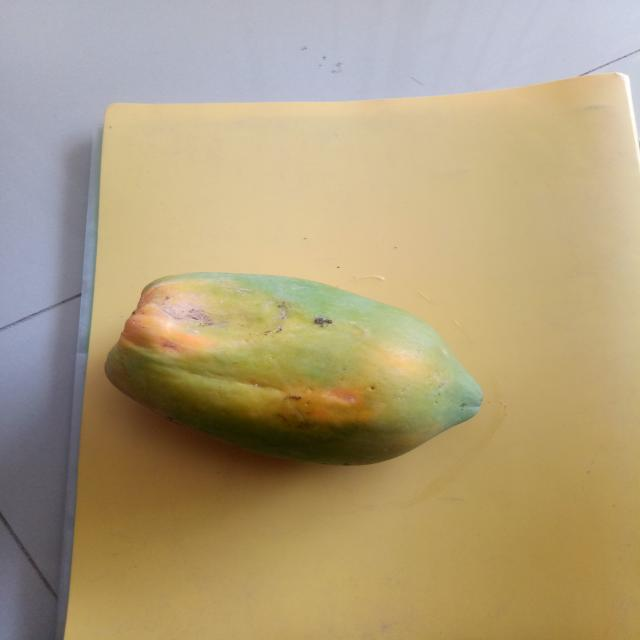Pepaya rippen: (99, 264, 491, 486)
